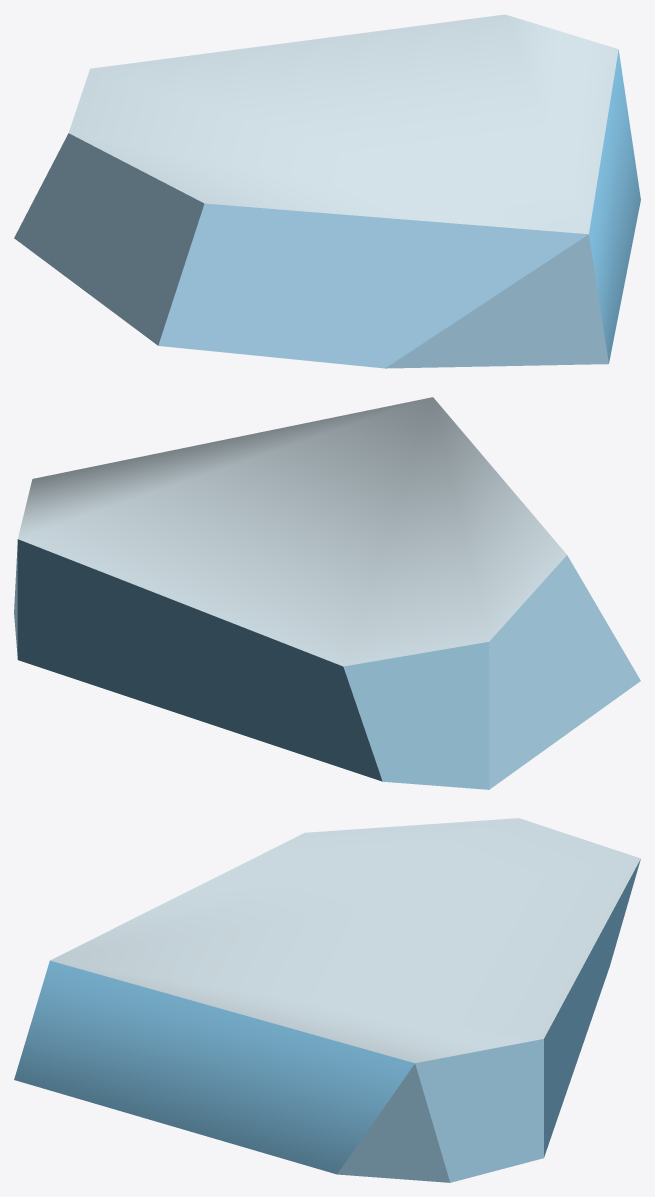
The model's file is dao01.fbx.
3 views of the same model, one above another, from view 1: azimuth 30°, elevation 25°; view 2: azimuth 150°, elevation 25°; view 3: azimuth 270°, elevation 25° (orthographic). The views are drawn at different scales.
Parts seen in each view (by area): view 1: dao01; view 2: dao01; view 3: dao01.
Boxes of the visible parts, box(x1,y1,x2,y2) form: dao01: box(14, 14, 640, 368); dao01: box(14, 397, 640, 789); dao01: box(14, 818, 640, 1182).
Bounding box in the file's own units: 652 × 140 × 665.
